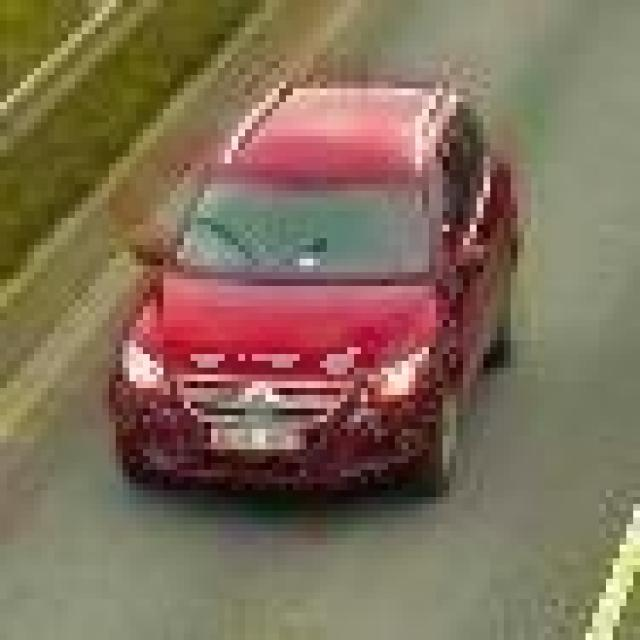maroon: (116, 78, 524, 514)
